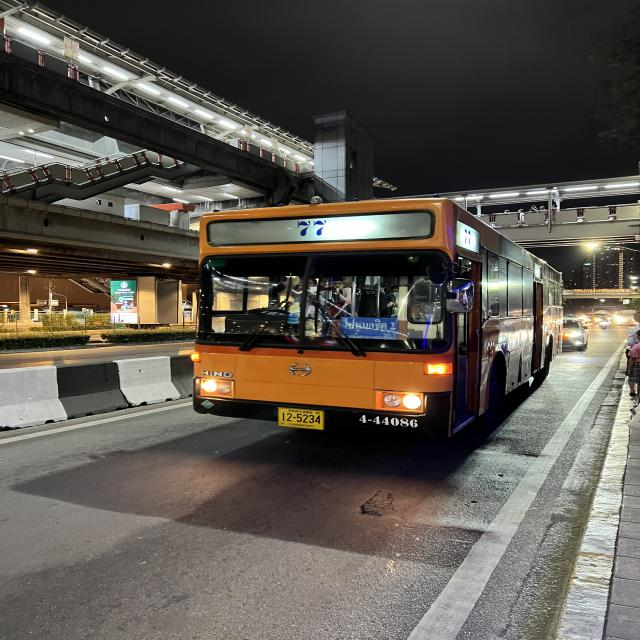BMTA-bus: (191, 199, 564, 443)
Bus Line Number: (279, 214, 346, 240)
Bus Side Number: (354, 412, 424, 434)
Destination Sign: (338, 316, 403, 339)
